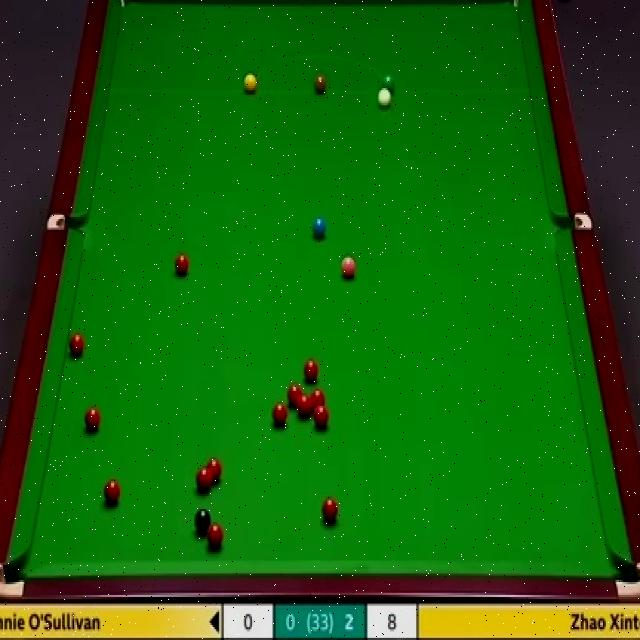black-ball: (193, 505, 213, 539)
blue-ball: (312, 215, 329, 241)
brown-ball: (313, 74, 328, 96)
green-ball: (381, 73, 396, 96)
pink-ball: (339, 251, 359, 281)
red-ball: (301, 356, 321, 384), (206, 524, 225, 553), (194, 467, 214, 494), (83, 404, 101, 434), (102, 478, 120, 506), (68, 331, 86, 358), (321, 497, 338, 524), (173, 252, 191, 276), (271, 402, 288, 427), (296, 394, 313, 419), (286, 383, 304, 406), (207, 457, 224, 480), (314, 404, 329, 428), (310, 389, 327, 408)
white-ball: (376, 85, 392, 113)
yellow-ball: (243, 72, 258, 95)
